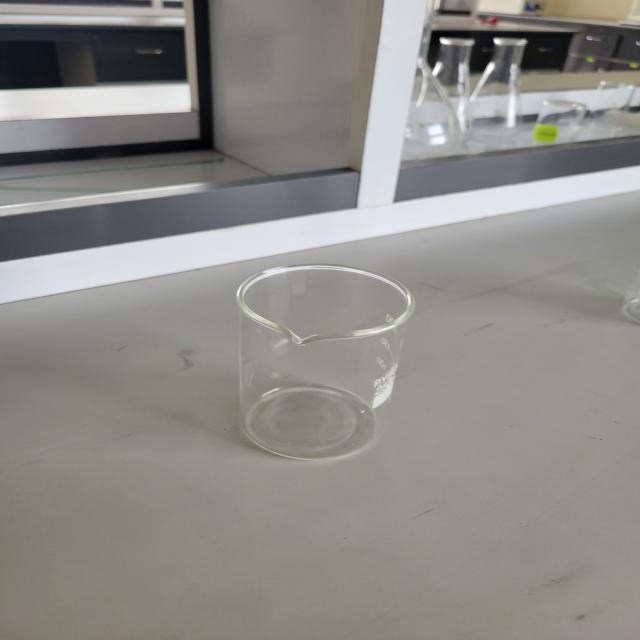Beaker: (224, 258, 423, 471)
